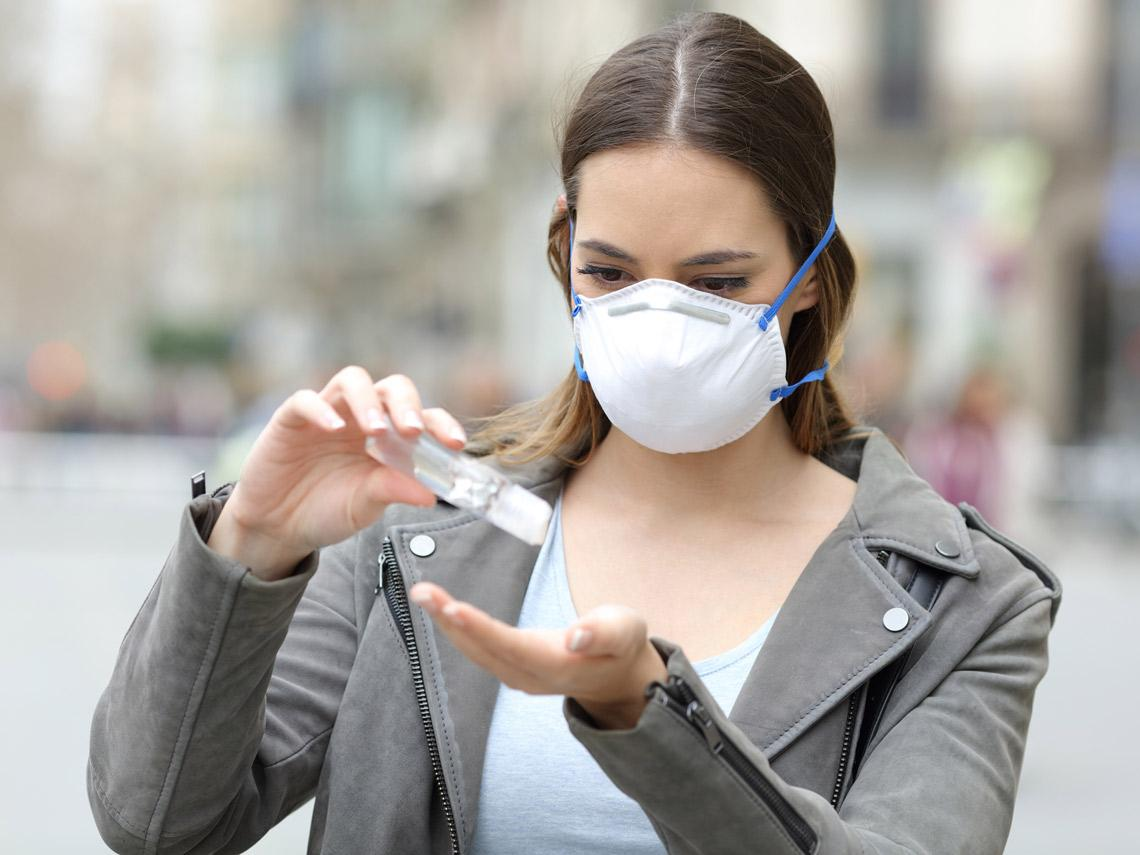with_mask: (513, 10, 884, 466)
